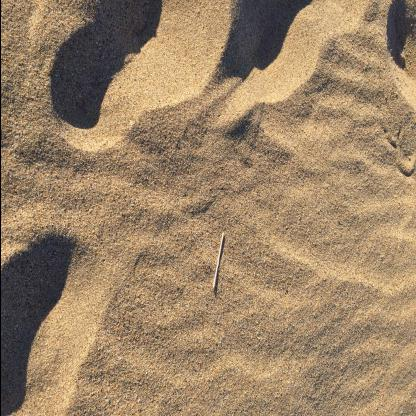plastik: (212, 233, 223, 288)
